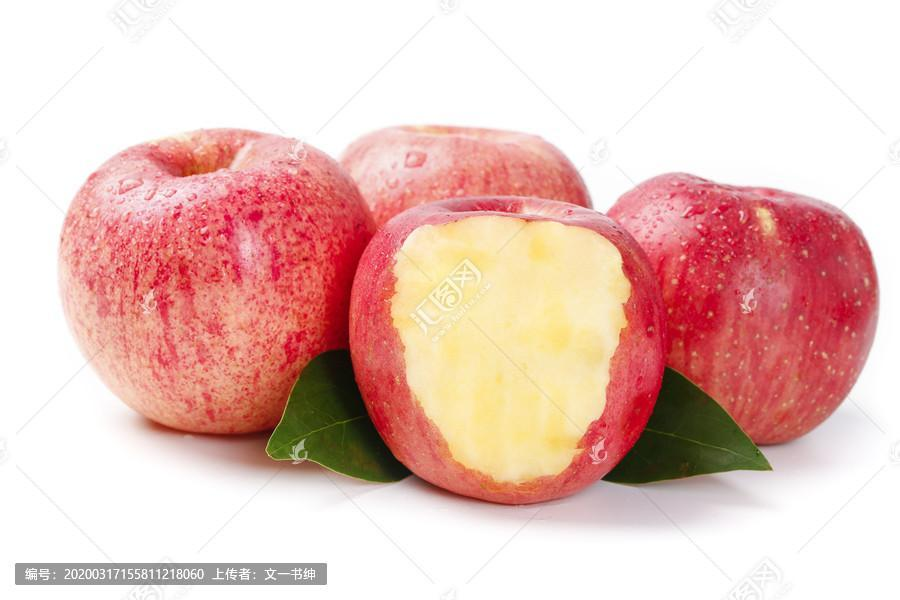apple: (54, 127, 376, 432), (362, 189, 660, 509), (594, 171, 877, 446)
